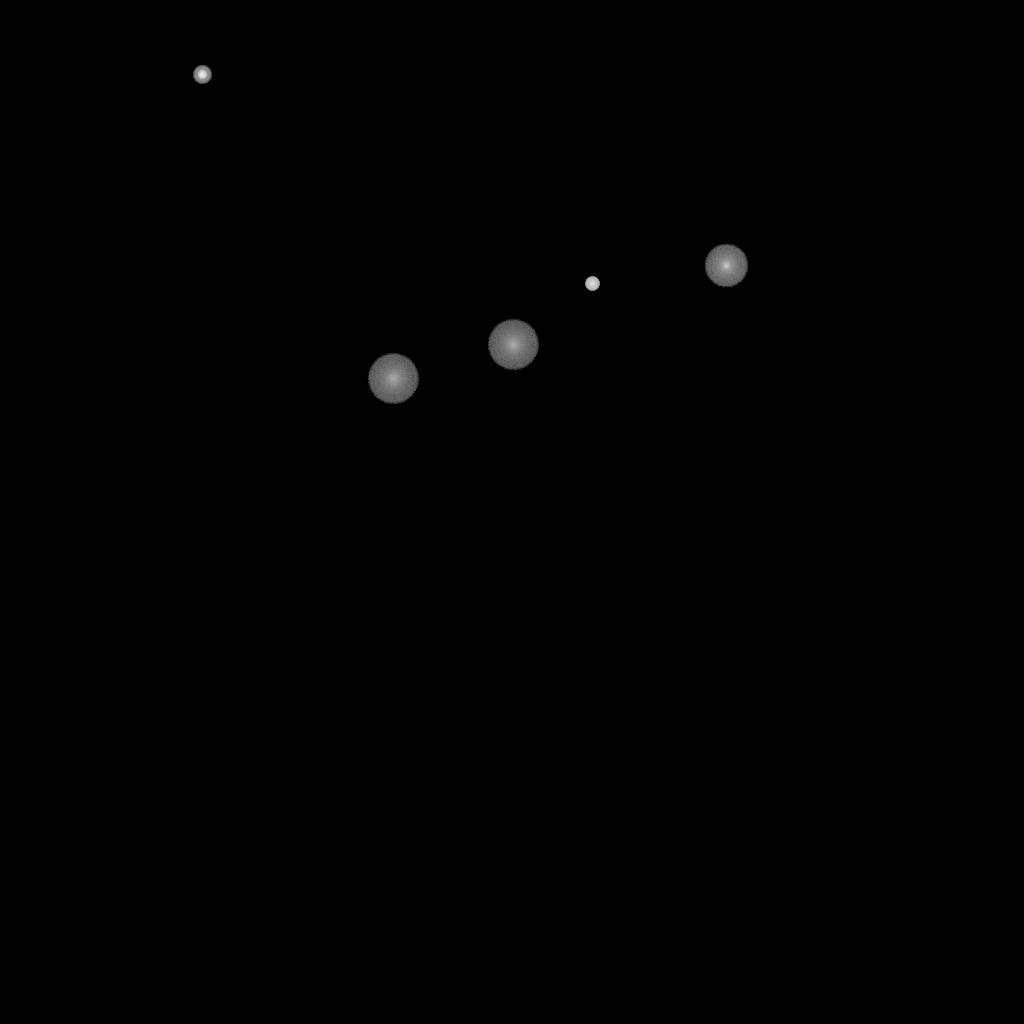depth:-20: (193, 66, 211, 84)
depth:-30: (585, 277, 599, 291)
depth:10: (704, 244, 748, 288)
depth:20: (367, 354, 419, 404), (487, 320, 539, 370)
